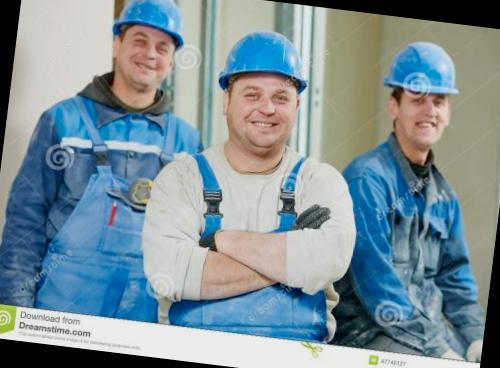person: (139, 13, 371, 342), (0, 0, 210, 324), (332, 36, 500, 362)
